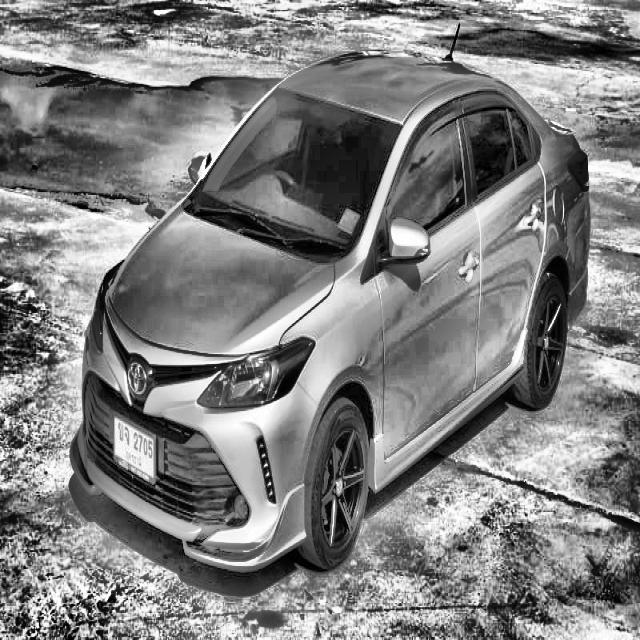license-plate: (105, 398, 163, 501)
